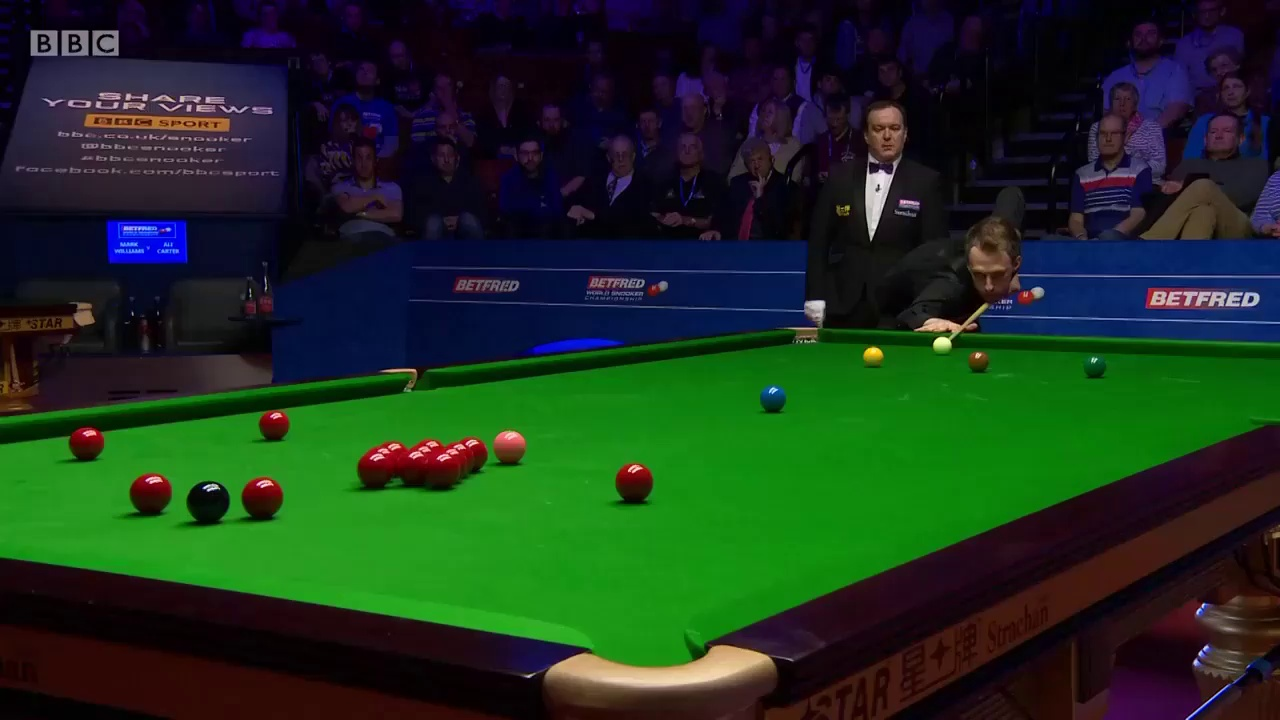black: (186, 481, 230, 523)
blue: (761, 387, 785, 414)
brown: (968, 352, 987, 371)
green: (1082, 357, 1106, 378)
pink: (496, 430, 525, 463)
red: (128, 473, 174, 513), (244, 478, 283, 523), (616, 464, 653, 505), (358, 451, 392, 488), (66, 428, 104, 460), (428, 455, 458, 488), (258, 414, 291, 441), (399, 454, 425, 487)
yellow: (863, 348, 885, 368)
